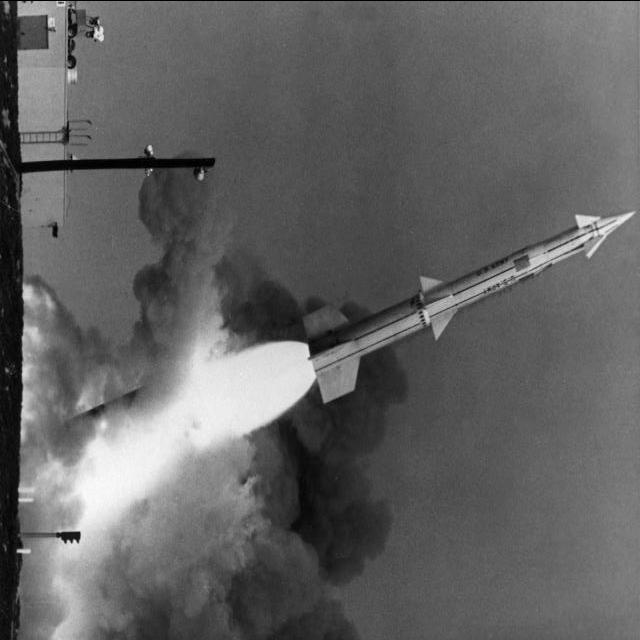missile: (304, 206, 638, 411)
